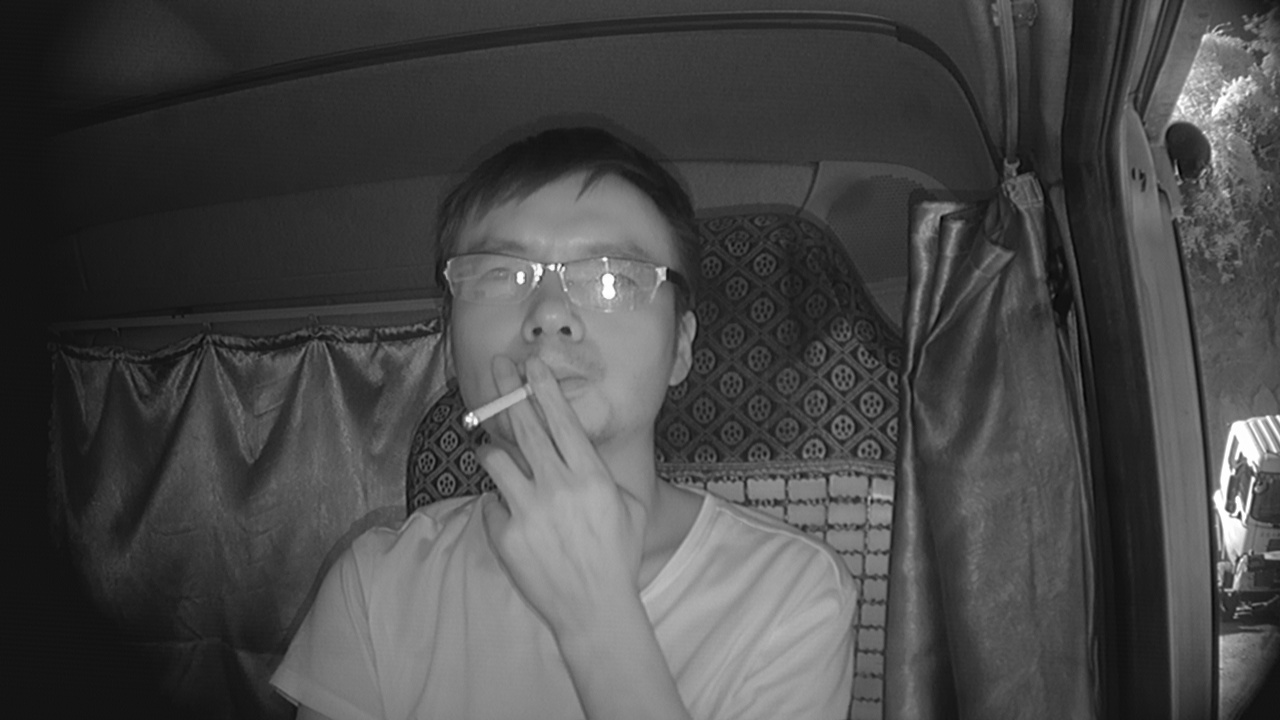hand: (461, 354, 619, 576)
